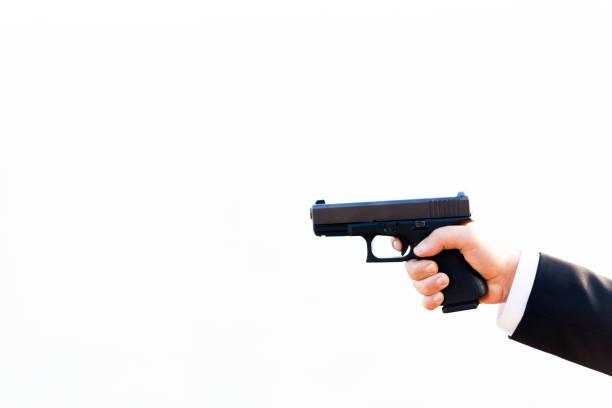weapon: (308, 188, 488, 313)
